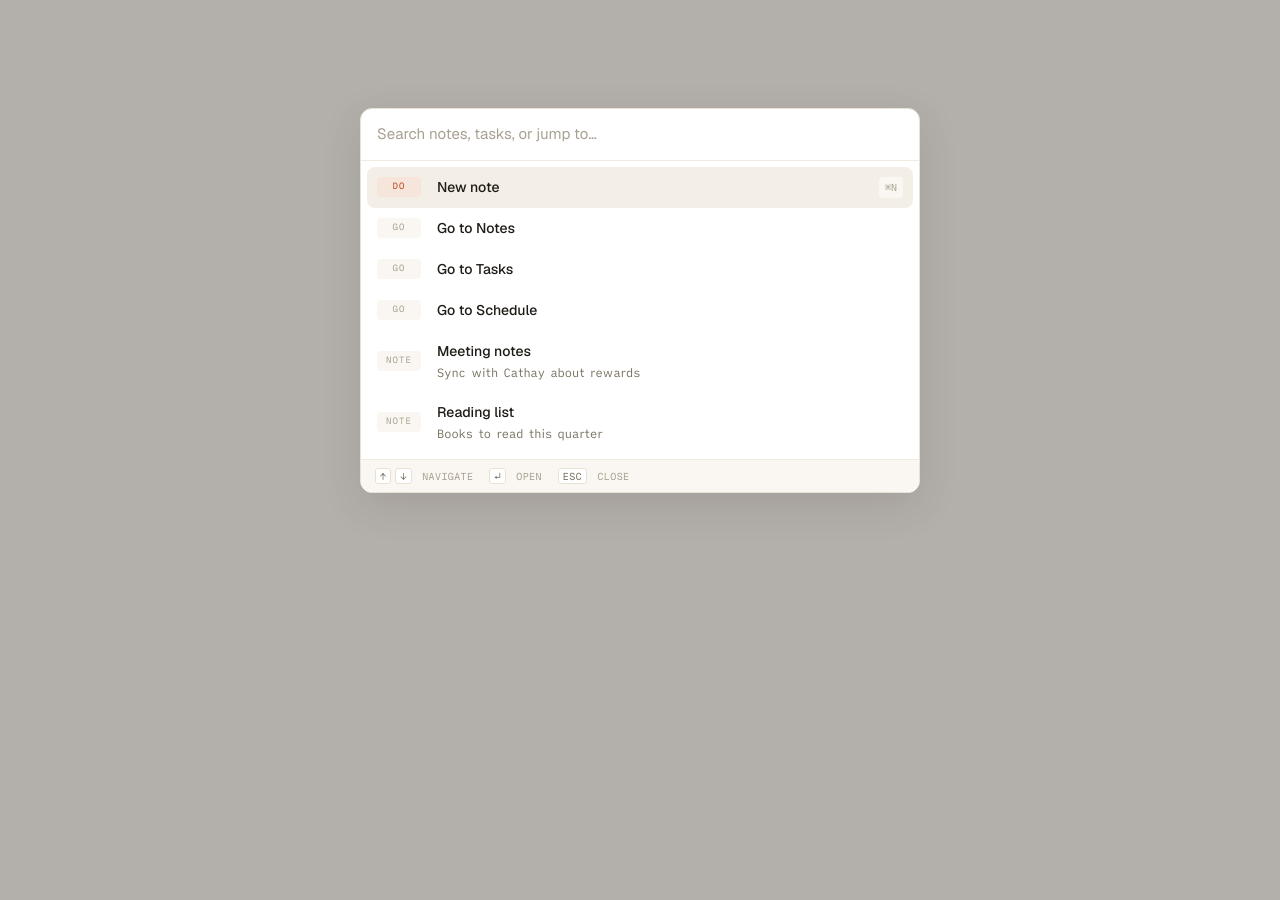
CommandPalette › filters tasks by title
This screenshot has width=1280, height=900.
In the field with placeholder "Search notes, tasks, or jump to…": (640, 135) [361,109,919,160], type "send report"
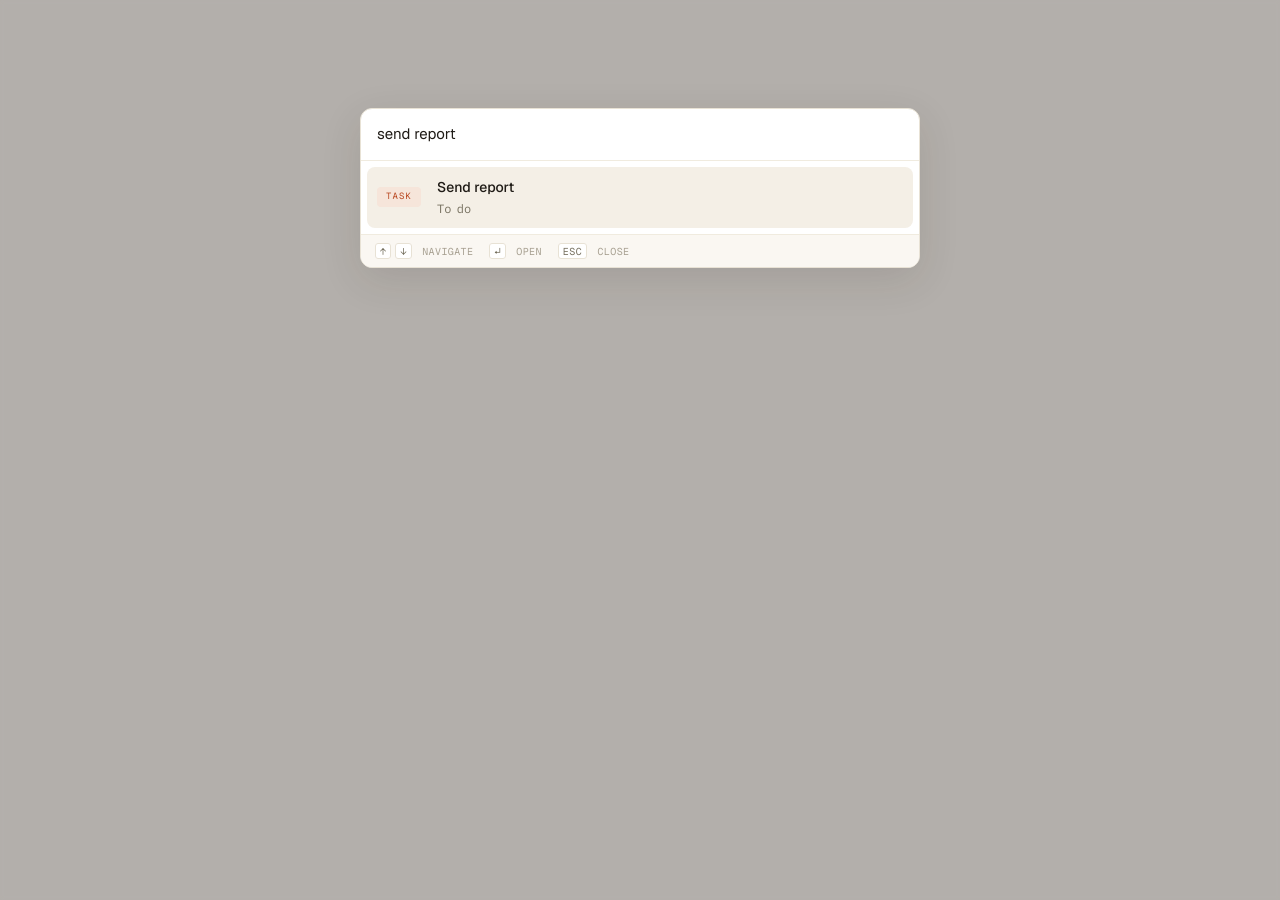
Expected: the text "Send report" is shown, [437,178,514,196]
